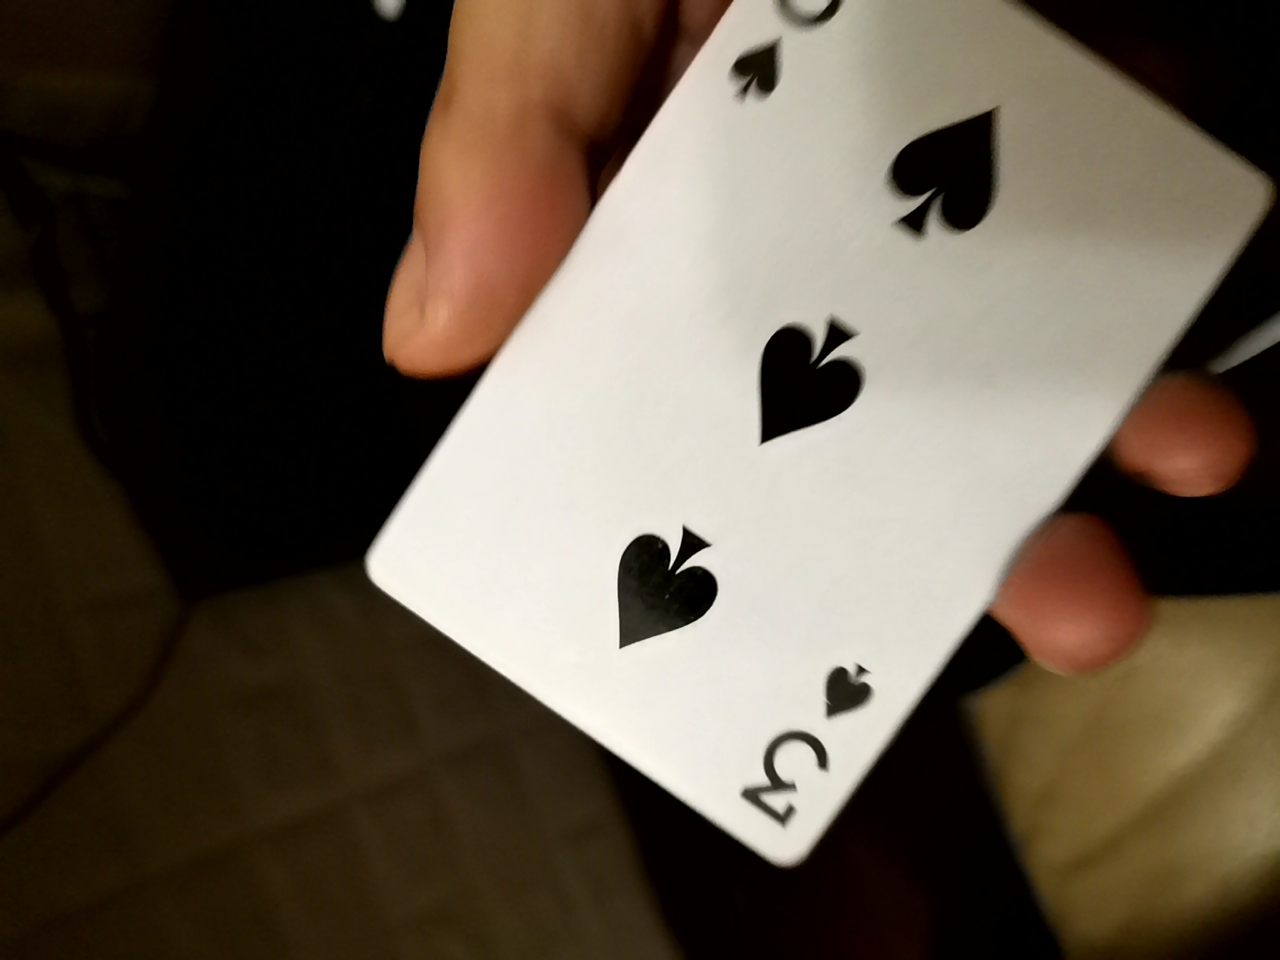ht 3: (298, 8, 1265, 921)
